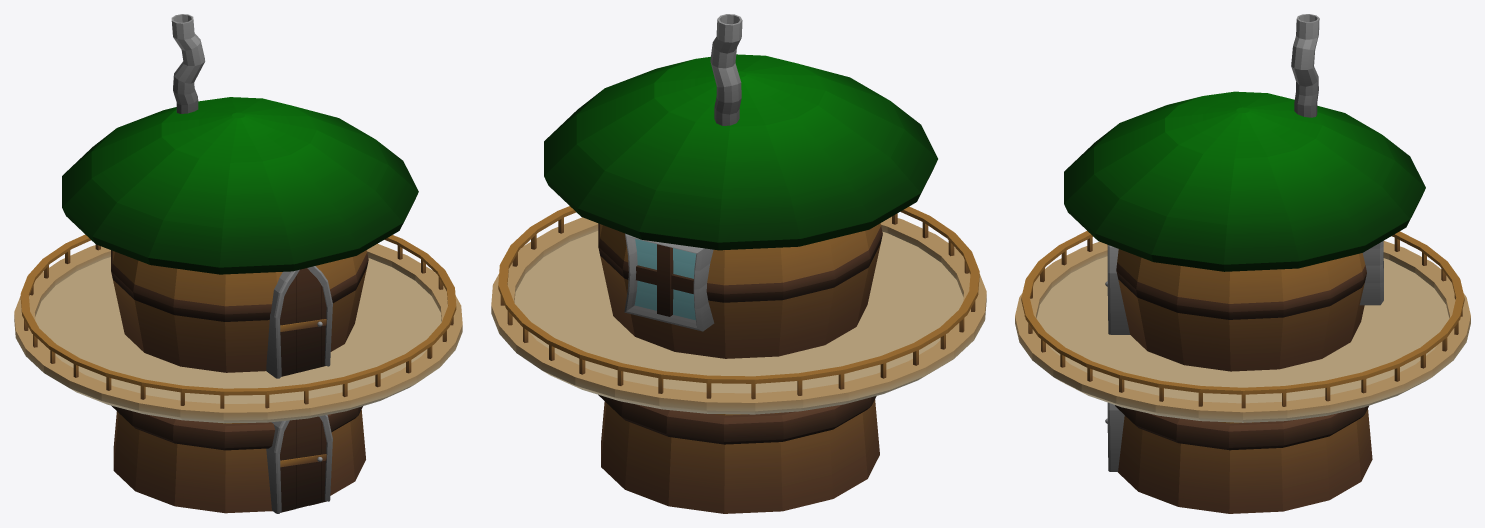
Rendered from Casa_1_elementosDecorativos_T.fbx.
3 renders of one model, left to right at view 1: azimuth 30°, elevation 25°; view 2: azimuth 150°, elevation 25°; view 3: azimuth 270°, elevation 25°, orthographic. The views are drawn at different scales.
Visible parts, largest first — view 1: Casa 2.001; view 2: Casa 2.001; view 3: Casa 2.001.
Part boxes in pixels (box(x1,y1,x2,y2)): Casa 2.001: box(14, 14, 462, 513); Casa 2.001: box(491, 14, 986, 513); Casa 2.001: box(1015, 14, 1470, 513).
Size of the model in its own units: 388 by 403 by 388.
